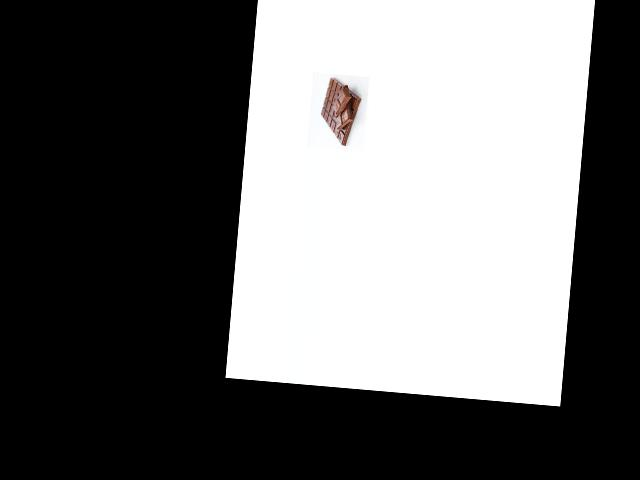chocolate: (315, 76, 365, 147)
